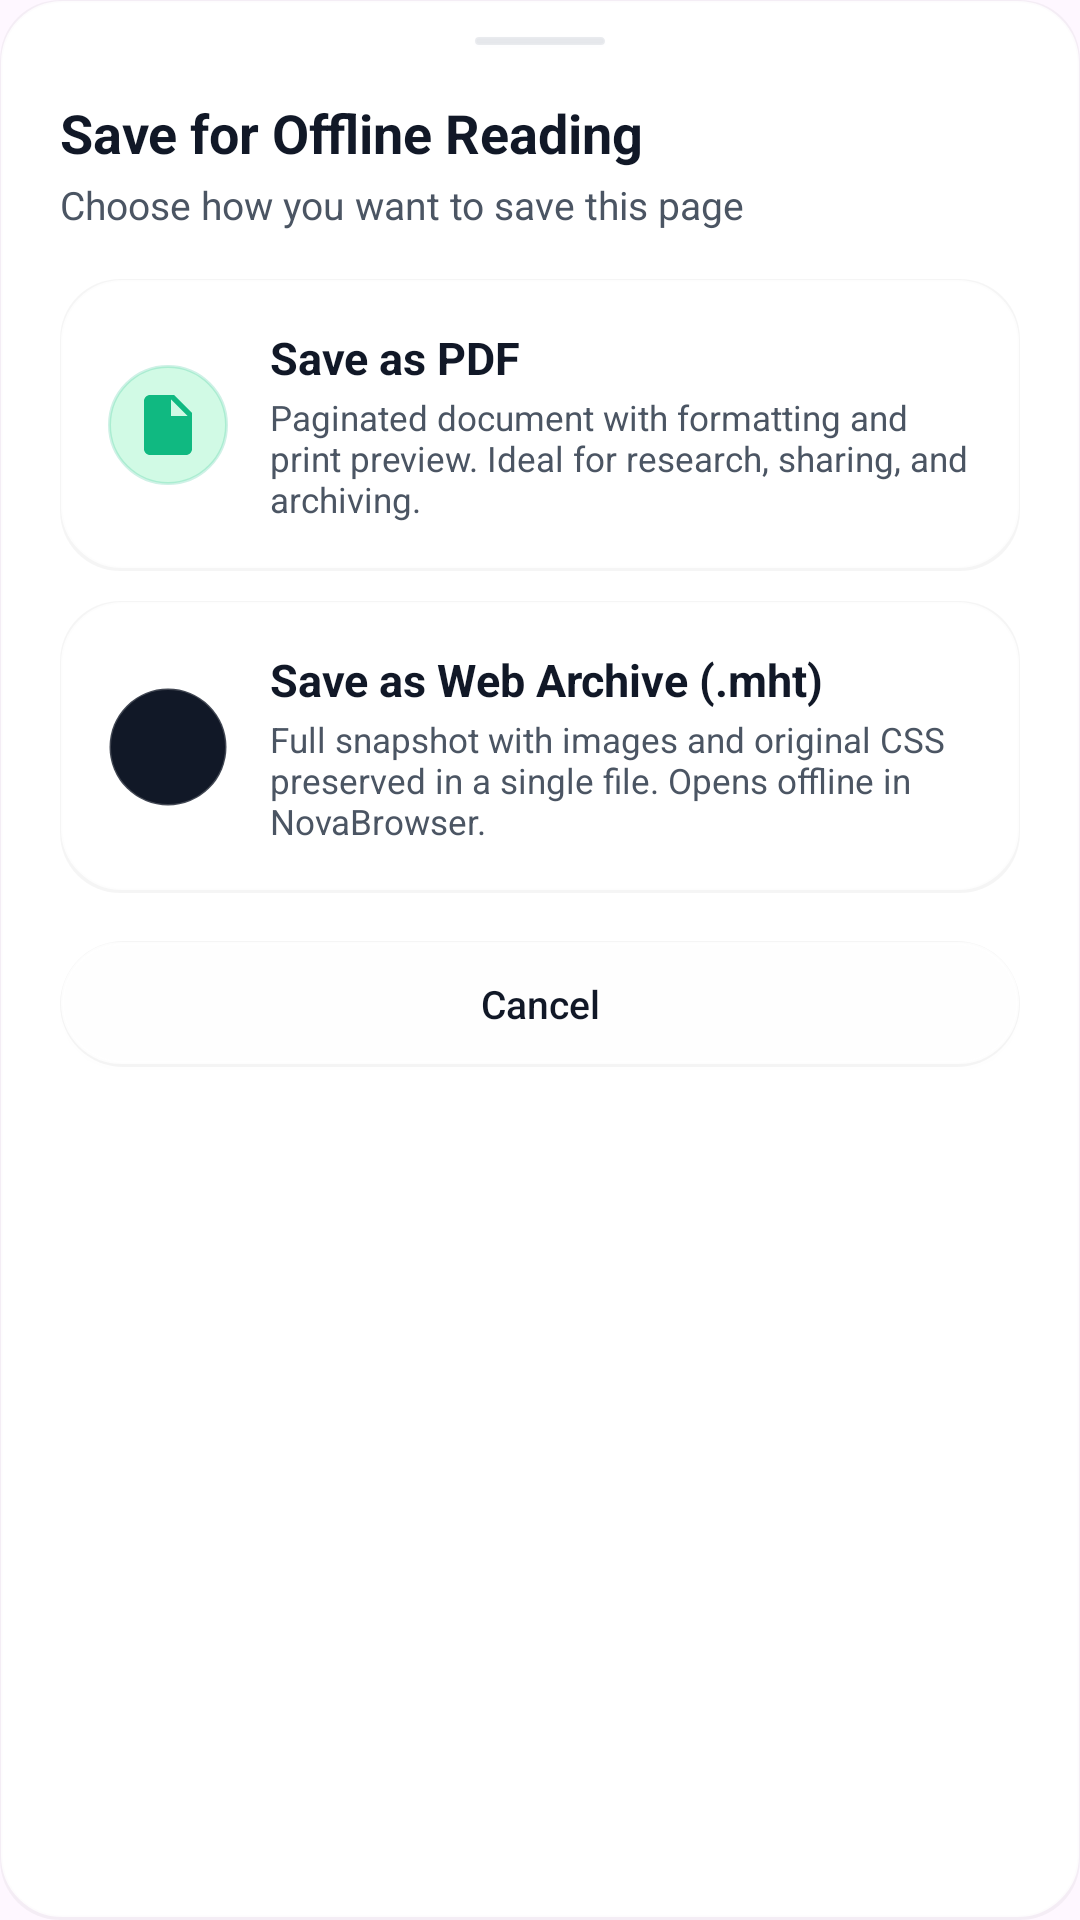

Screen size 1080px x 1920px. Icon name, then its center in pixels as point (x, y):
file: point (168, 425)
